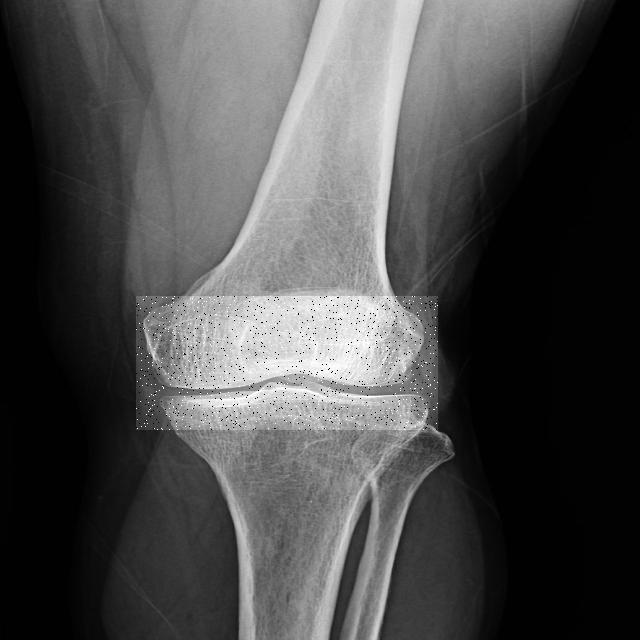osteo: (136, 296, 438, 431)
